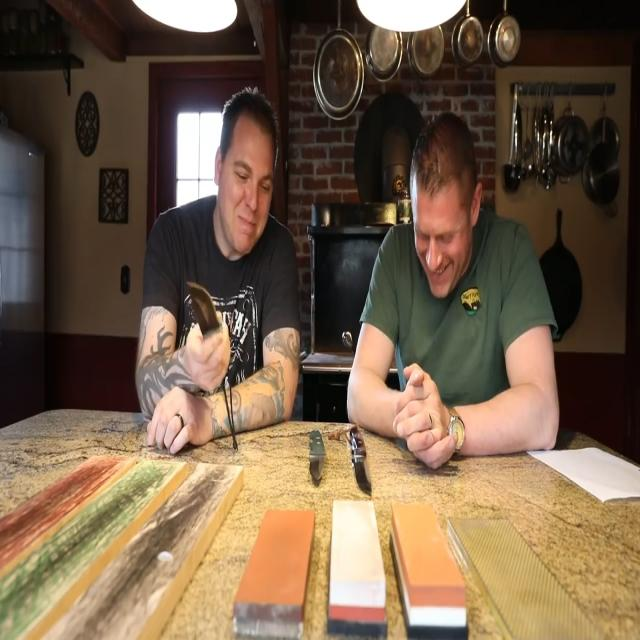knife: (348, 418, 376, 503), (188, 276, 220, 343), (307, 425, 329, 493)
